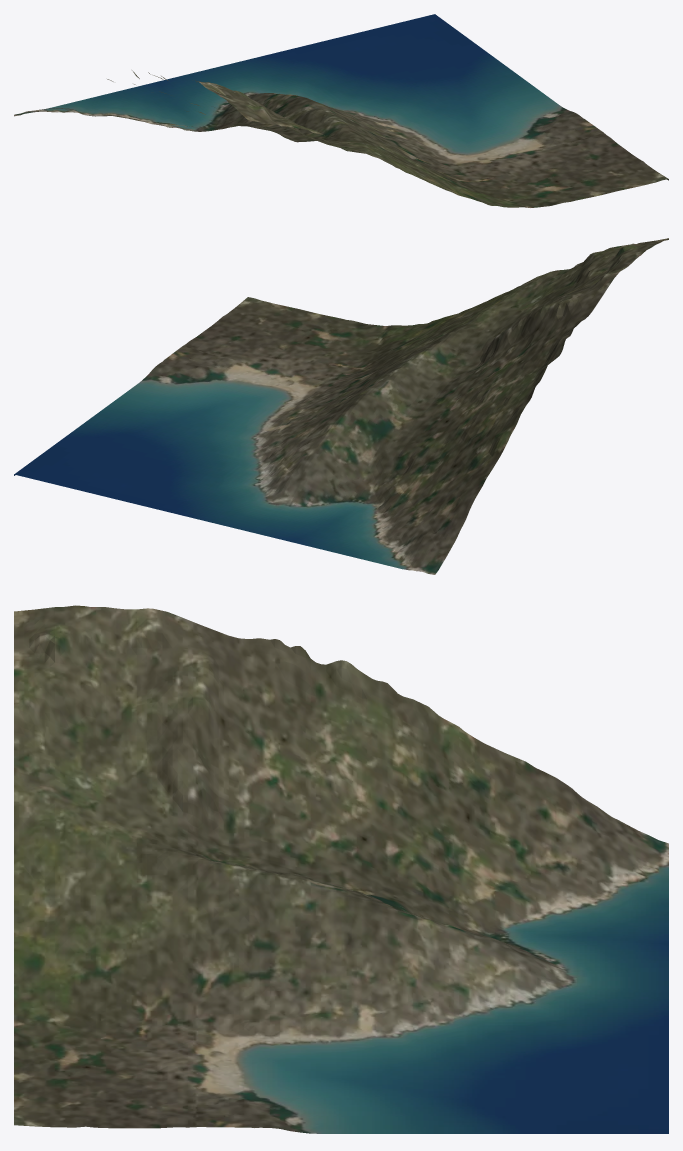
3 views of the same model, one above another, from view 1: azimuth 30°, elevation 25°; view 2: azimuth 150°, elevation 25°; view 3: azimuth 270°, elevation 25° (orthographic). The views are drawn at different scales.
Bounding box in the file's own units: 250 × 98.67 × 241.
Materials: 1 (1 with a texture image).
